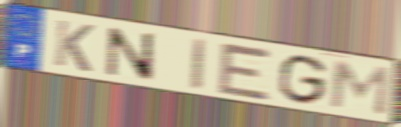E: (215, 39, 274, 103)
G: (276, 53, 330, 107)
I: (189, 36, 209, 93)
K: (51, 17, 97, 75)
M: (327, 59, 392, 118)
N: (105, 25, 157, 84)
